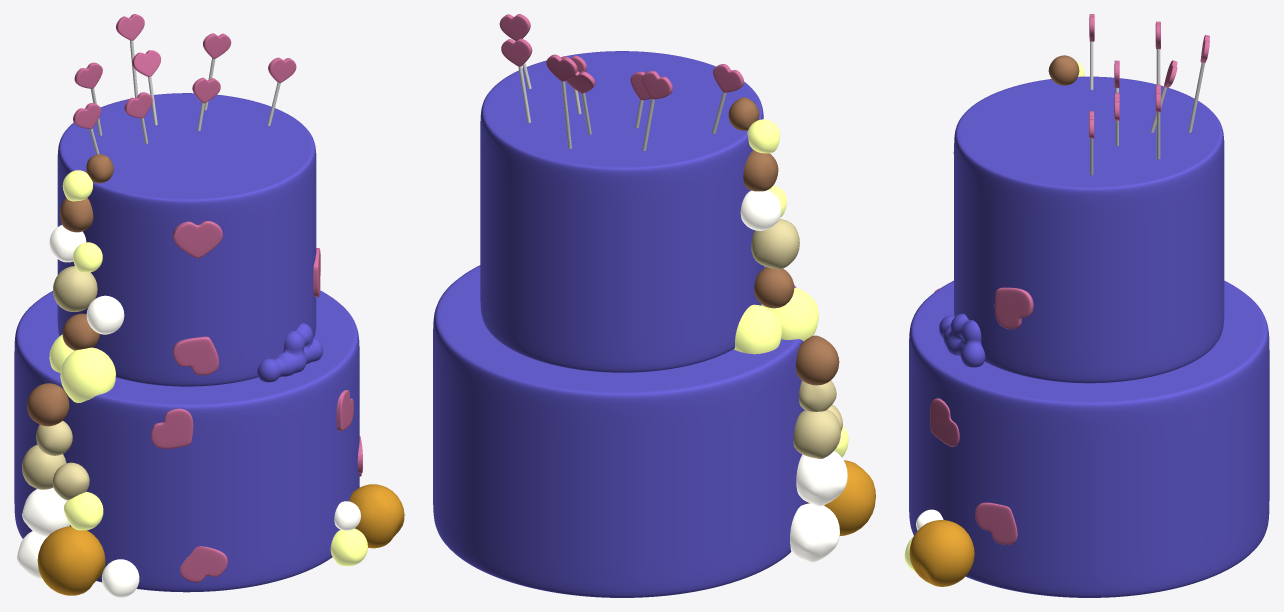
File: Cake_Layer_2_Purple_Topper1_Hearts_NoDrip.glb
The picture shows the model from 3 angles, left to right: view 1: azimuth 30°, elevation 25°; view 2: azimuth 150°, elevation 25°; view 3: azimuth 270°, elevation 25°; orthographic projection. The views are drawn at different scales.
Parts seen in each view (by area): view 1: Circle.001, Circle.002, Sphere, Sphere.026, Sphere.015, Sphere.028, Sphere.002, Sphere.012, Sphere.006, Star.003, Star.002, Star.001 (+26 smaller); view 2: Circle.001, Circle.002, Sphere.013, Sphere.002, Sphere, Sphere.005, Sphere.008, Sphere.012, Sphere.006, Sphere.015, Sphere.014, Sphere.009 (+9 smaller); view 3: Circle.001, Circle.002, Sphere.026, Sphere.028, Star.011, Star.004, Star.010, Sphere.018.
Part boxes in pixels (x1=…): Circle.001: x1=14, y1=290, x2=359, y2=592; Circle.002: x1=57, y1=93, x2=316, y2=386; Sphere: x1=37, y1=526, x2=105, y2=595; Sphere.026: x1=349, y1=484, x2=404, y2=548; Sphere.015: x1=60, y1=347, x2=115, y2=402; Sphere.028: x1=257, y1=323, x2=322, y2=382; Sphere.002: x1=22, y1=487, x2=69, y2=536; Sphere.012: x1=53, y1=266, x2=97, y2=311; Sphere.006: x1=27, y1=383, x2=69, y2=426; Star.003: x1=173, y1=221, x2=222, y2=258; Star.002: x1=173, y1=336, x2=218, y2=375; Star.001: x1=151, y1=408, x2=193, y2=448; Circle.001: x1=433, y1=265, x2=806, y2=597; Circle.002: x1=480, y1=51, x2=763, y2=372; Sphere.013: x1=790, y1=503, x2=839, y2=562; Sphere.002: x1=796, y1=451, x2=847, y2=506; Sphere: x1=807, y1=460, x2=875, y2=535; Sphere.005: x1=793, y1=409, x2=840, y2=458; Sphere.008: x1=734, y1=304, x2=781, y2=354; Sphere.012: x1=751, y1=218, x2=799, y2=269; Sphere.006: x1=796, y1=335, x2=839, y2=385; Sphere.015: x1=761, y1=287, x2=818, y2=341; Sphere.014: x1=740, y1=190, x2=781, y2=230; Sphere.009: x1=754, y1=267, x2=794, y2=308; Circle.001: x1=909, y1=280, x2=1269, y2=597; Circle.002: x1=954, y1=76, x2=1224, y2=383; Sphere.026: x1=909, y1=520, x2=974, y2=586; Sphere.028: x1=939, y1=313, x2=985, y2=367; Star.011: x1=975, y1=502, x2=1017, y2=544; Star.004: x1=994, y1=287, x2=1033, y2=329; Star.010: x1=930, y1=398, x2=959, y2=446; Sphere.018: x1=1048, y1=55, x2=1079, y2=85.
Bounding box in the file's own units: 0.2244 × 0.3018 × 0.2025.
